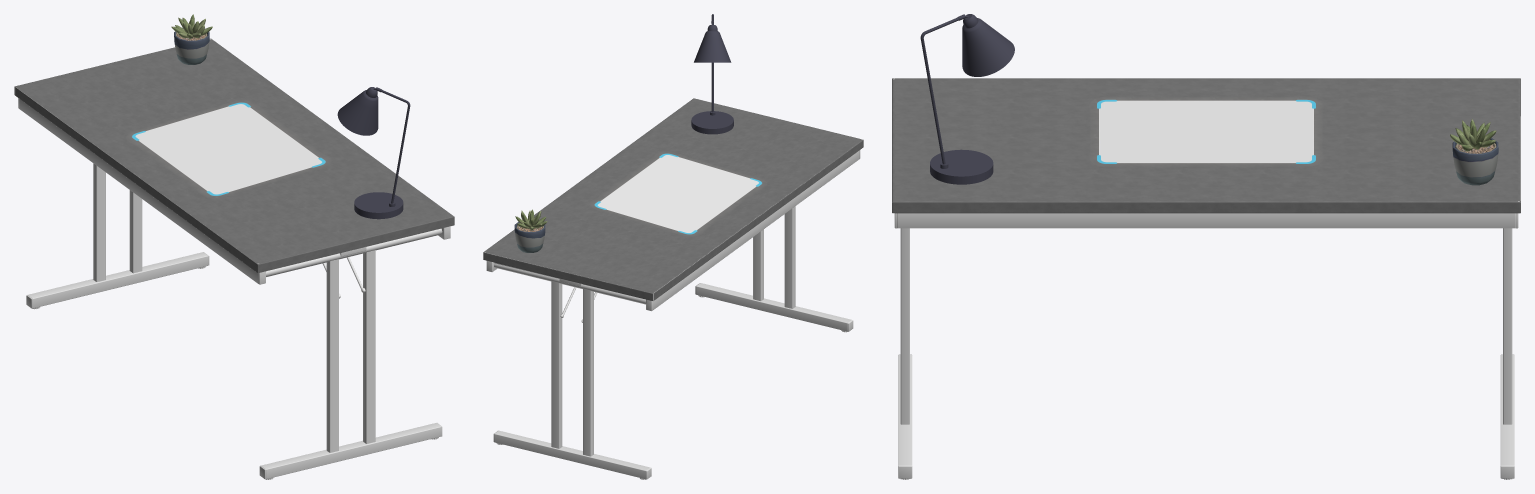
File: lsw_desk_and_decor.glb
3 views of the same model, side by side, from view 1: azimuth 30°, elevation 25°; view 2: azimuth 150°, elevation 25°; view 3: azimuth 270°, elevation 25° (orthographic). The views are drawn at different scales.
Visible parts, largest first — view 1: desk.001, desk, drawing_canvas, desk_lamp, G-cactus_gasteria_1; view 2: desk.001, desk, drawing_canvas, desk_lamp, G-cactus_gasteria_1; view 3: desk.001, desk, drawing_canvas, desk_lamp, G-cactus_gasteria_1.
Part boxes in pixels (box(x1,y1,x2,y2)): desk.001: box(14, 38, 454, 272); desk: box(14, 39, 453, 479); drawing_canvas: box(132, 102, 325, 195); desk_lamp: box(337, 87, 410, 219); G-cactus_gasteria_1: box(171, 14, 212, 64); desk.001: box(483, 98, 863, 303); desk: box(485, 139, 862, 479); drawing_canvas: box(594, 153, 762, 234); desk_lamp: box(691, 14, 733, 134); G-cactus_gasteria_1: box(514, 209, 547, 252); desk.001: box(892, 78, 1520, 213); desk: box(892, 78, 1520, 479); drawing_canvas: box(1097, 99, 1315, 163); desk_lamp: box(920, 14, 1014, 184); G-cactus_gasteria_1: box(1450, 119, 1498, 185).
Size of the model in its own units: 0.7 by 1.16 by 1.5.
Materials: 9 (7 with a texture image).
